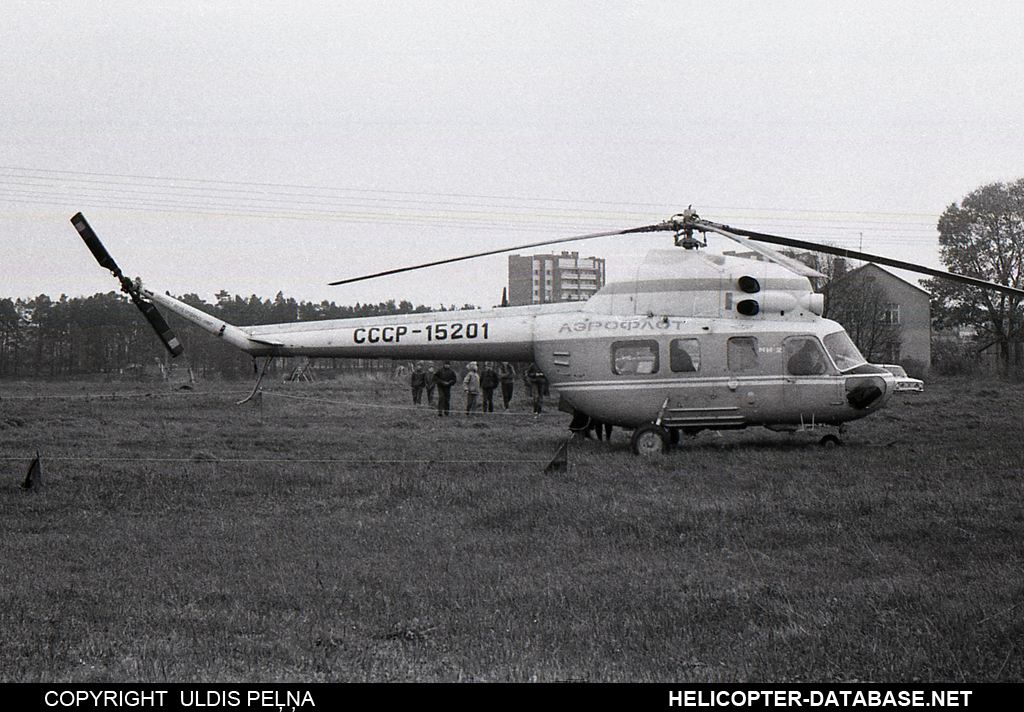number: (352, 320, 495, 345)
